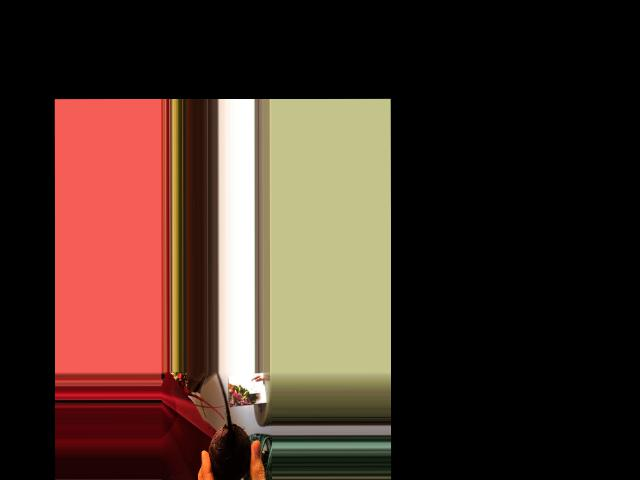beet: (208, 370, 251, 480)
